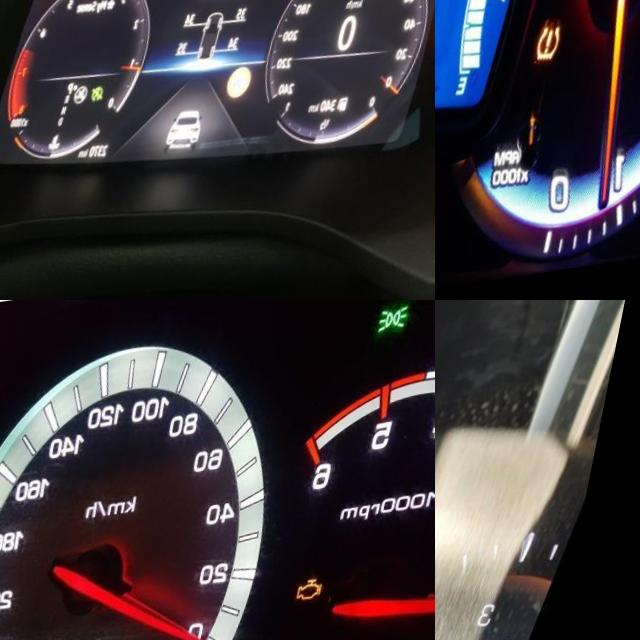Low beam: (368, 0, 386, 12)
SideLamp: (382, 316, 414, 345), (384, 0, 405, 8)
